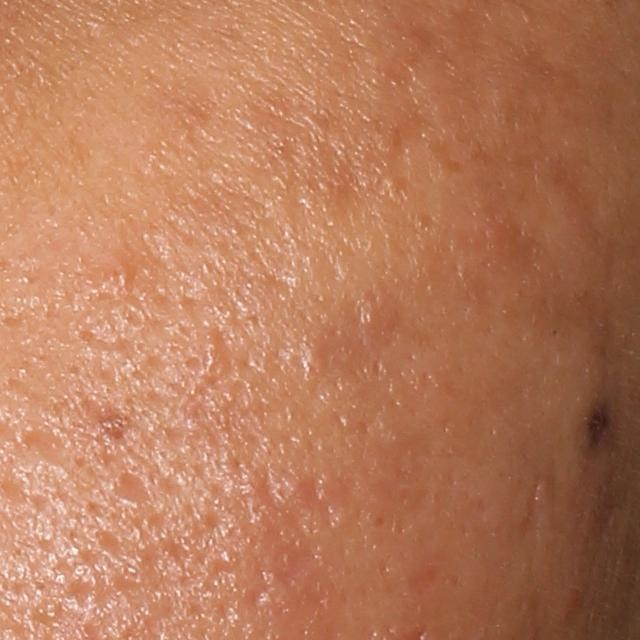atrophic_scar: (240, 524, 317, 617), (21, 428, 67, 463), (521, 471, 546, 535), (110, 471, 153, 508)
nevus: (585, 399, 618, 454)
